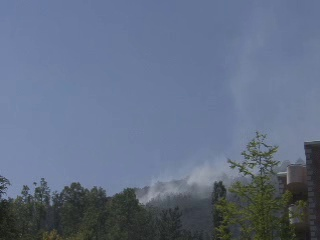smoke: (135, 145, 227, 205)
